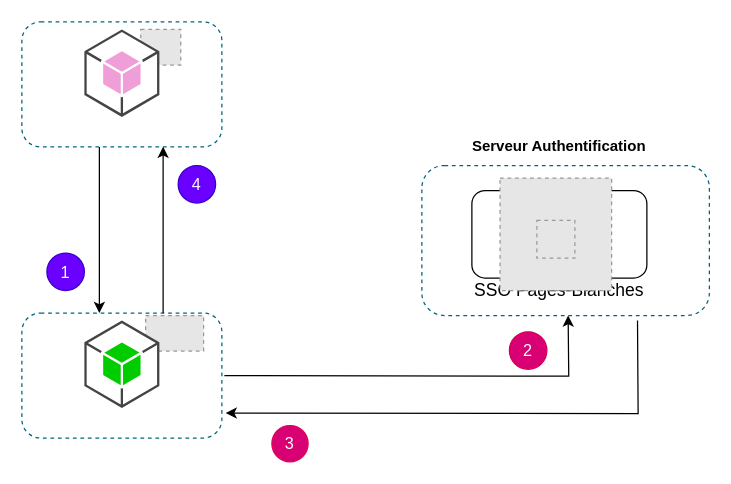
Image size: 731x484. Some labels were removed from this diagram. Grey dashed boxes stand in for pictures. The shapes that lost their labels are listed below. From the top down, each one's centre as x and y in pixels, then its label:
At point (121, 72): "Frontend LABEL".
At point (121, 363): "Backend LABEL".
